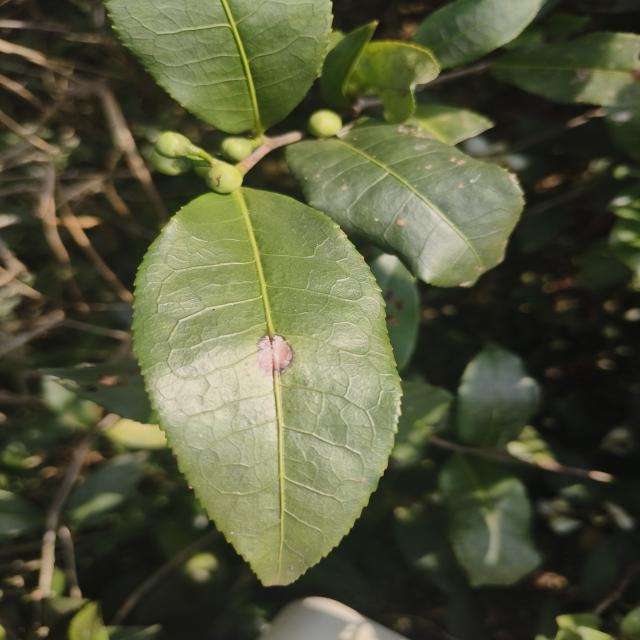Leaf: (133, 188, 401, 585), (286, 121, 523, 287), (105, 0, 332, 134), (439, 455, 540, 586), (490, 32, 640, 107), (413, 0, 543, 68), (456, 344, 539, 447), (348, 41, 440, 123), (40, 359, 151, 422), (370, 254, 419, 371), (391, 381, 454, 464), (320, 21, 378, 107)
